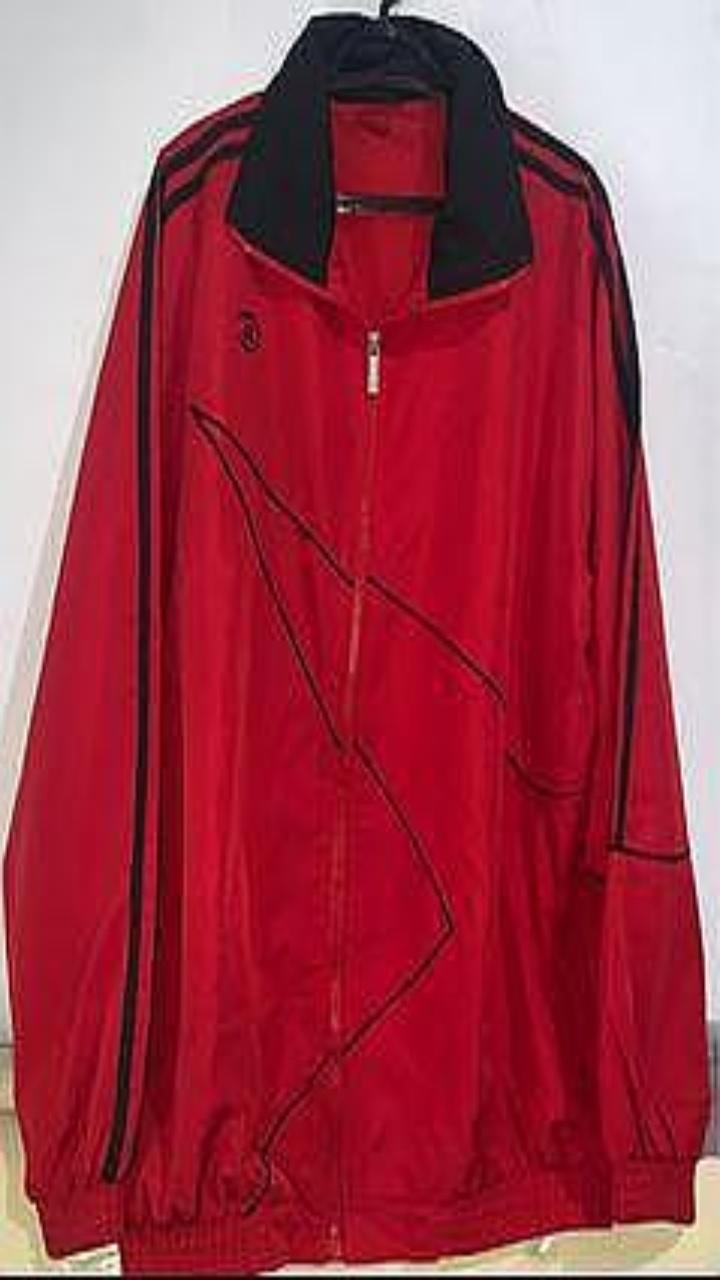Sports_Jacket: (3, 13, 709, 1273)
